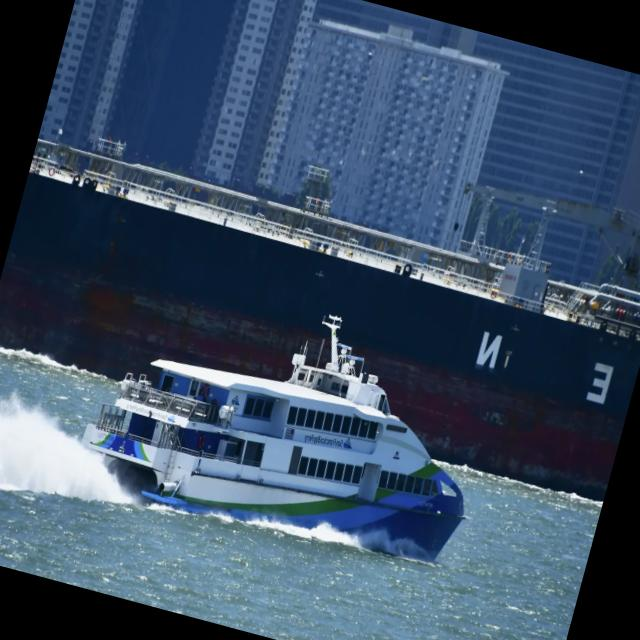Passenger: (81, 315, 465, 560)
